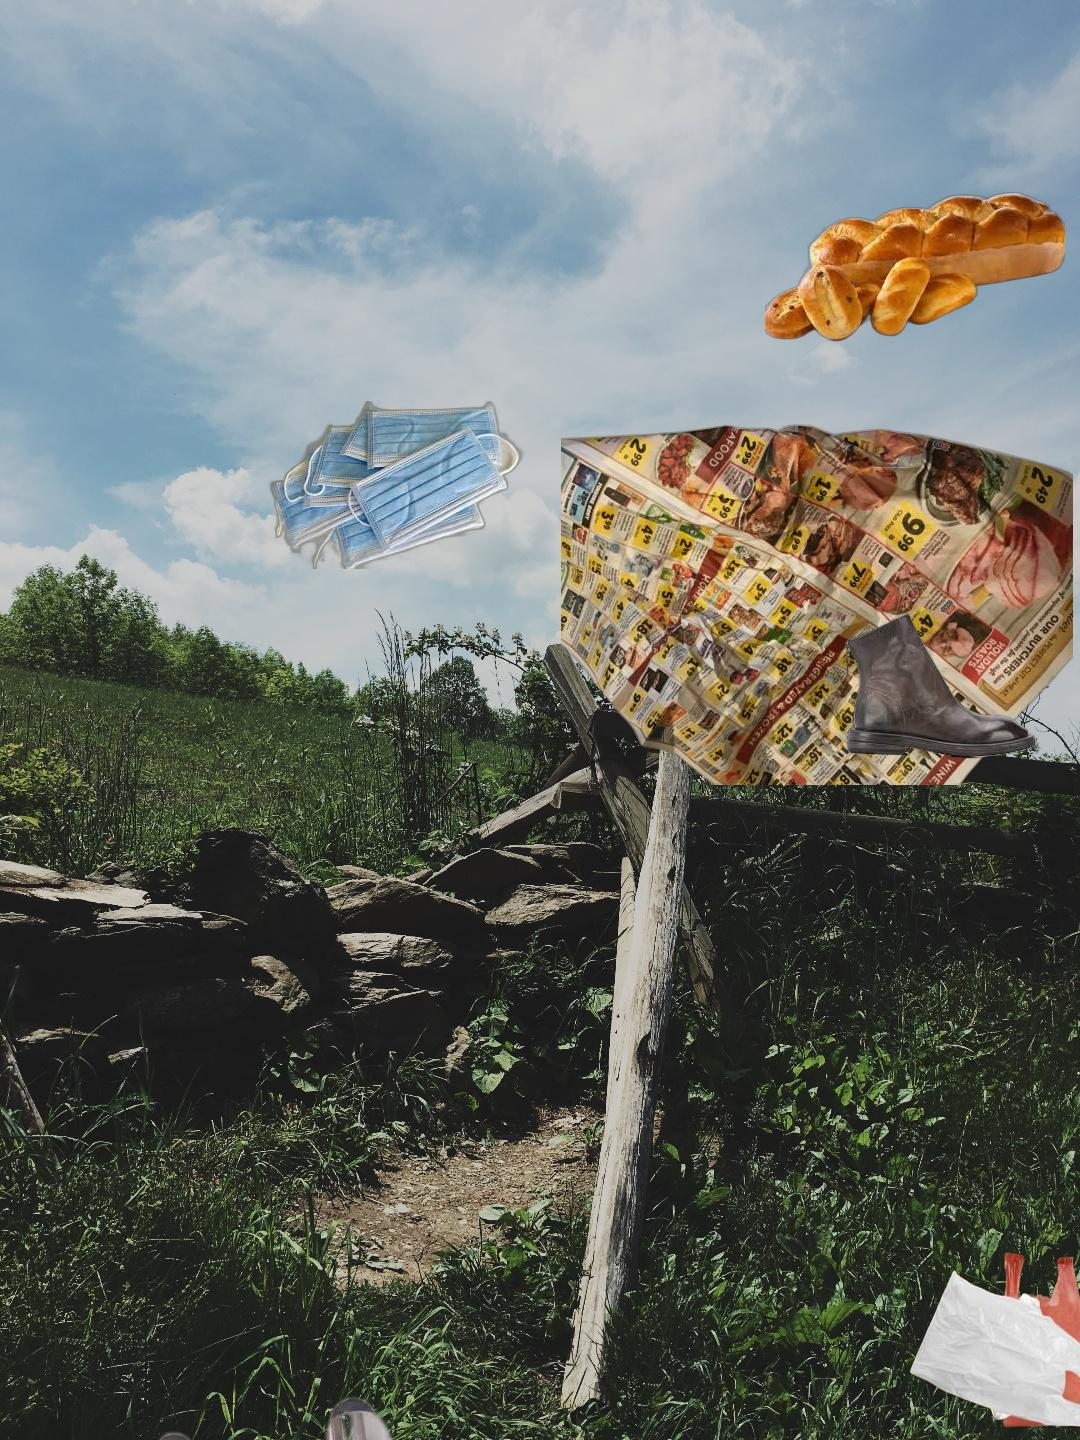biological: (765, 189, 1065, 344)
paper: (562, 421, 1073, 785)
penholder: (52, 1384, 683, 1440)
plastic-bag: (908, 1250, 1080, 1431)
shoes: (843, 611, 1036, 761)
trash: (265, 401, 526, 569)
